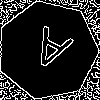A: (22, 25, 75, 81)
